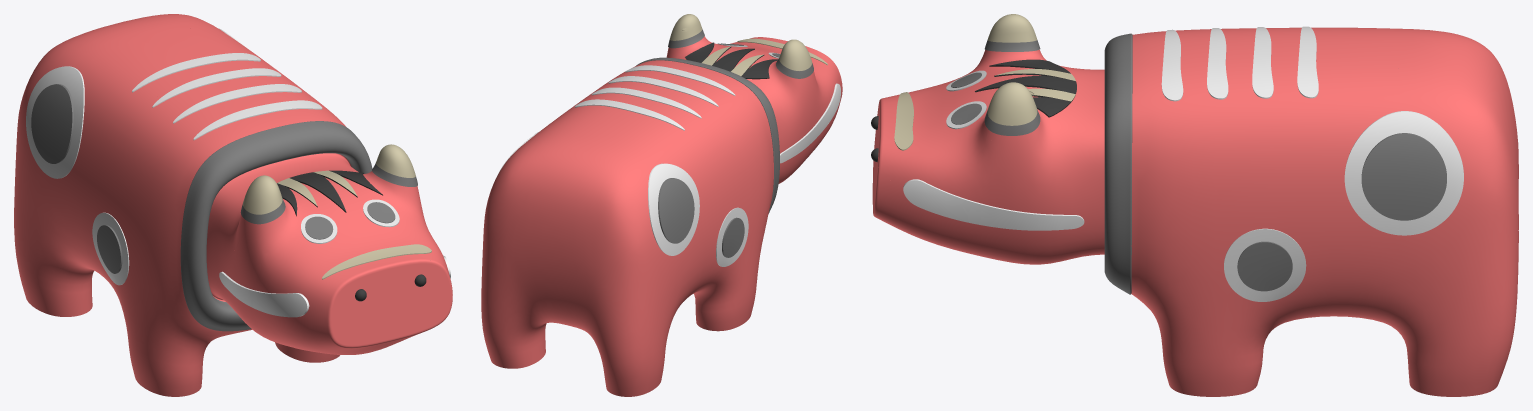
The picture shows the model from 3 angles, left to right: view 1: azimuth 30°, elevation 25°; view 2: azimuth 150°, elevation 25°; view 3: azimuth 270°, elevation 25°; orthographic projection. The views are drawn at different scales.
Visible parts, largest first — view 1: 001_akabeko; view 2: 001_akabeko; view 3: 001_akabeko.
Part boxes in pixels (bbox=[...]): 001_akabeko: bbox=[14, 14, 452, 396]; 001_akabeko: bbox=[481, 14, 842, 396]; 001_akabeko: bbox=[871, 14, 1518, 396].
Size of the model in its own units: 0.1741 by 0.2106 by 0.4157.
